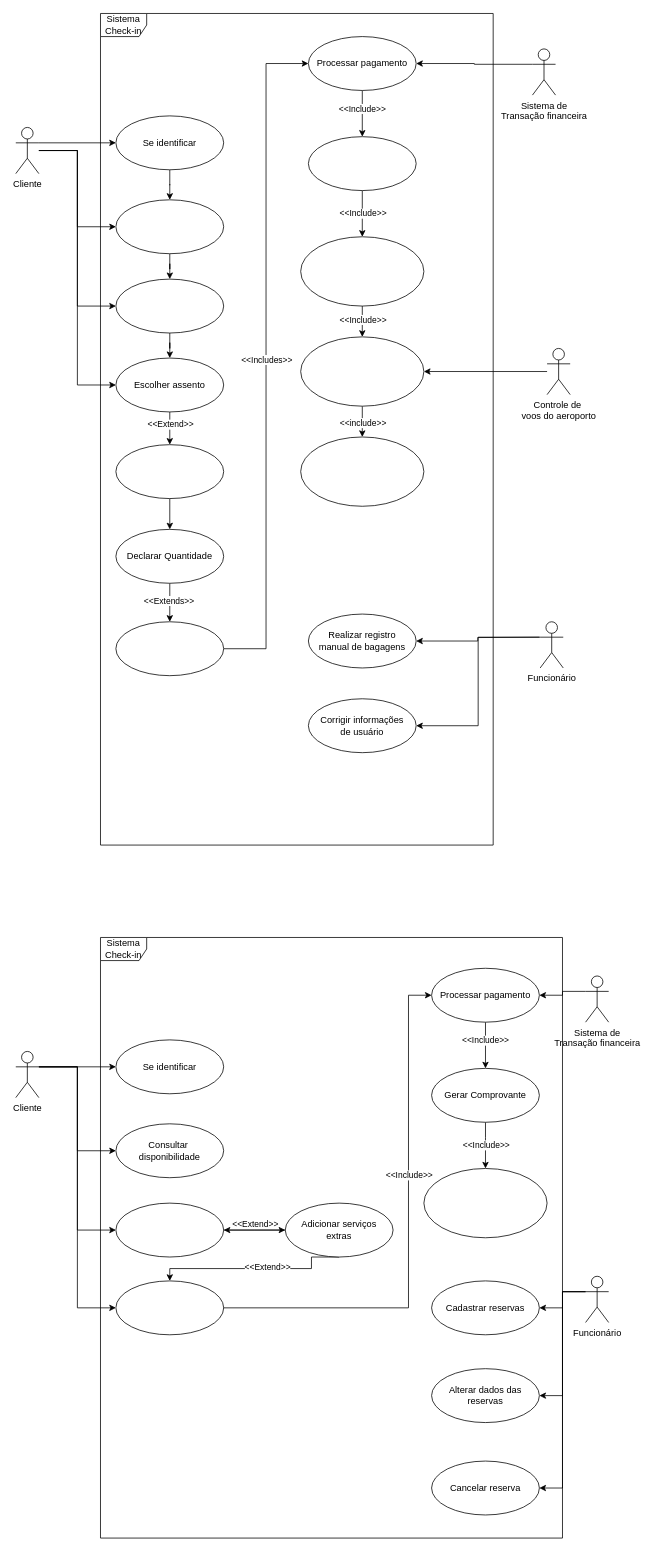
This 654x1552 diagram has some shape labels left out. The centre of each missing label's shape, as x and y in pixels:
Atualiza lista de embarque: point (362, 371)
Compartilha dados com setor de segurança: point (362, 471)
Confirmar presença: point (169, 305)
Confirmar reserva: point (169, 1307)
Despachar malas: point (169, 471)
Emitir cartão de embarque: point (362, 163)
Escolher um quarto: point (169, 1229)
Mandar informações para controle de voo: point (362, 271)
Pagar taxa de excessso: point (169, 648)
Registrar dados no sistema de gestão: point (485, 1203)
Visualizar voos: point (169, 226)
